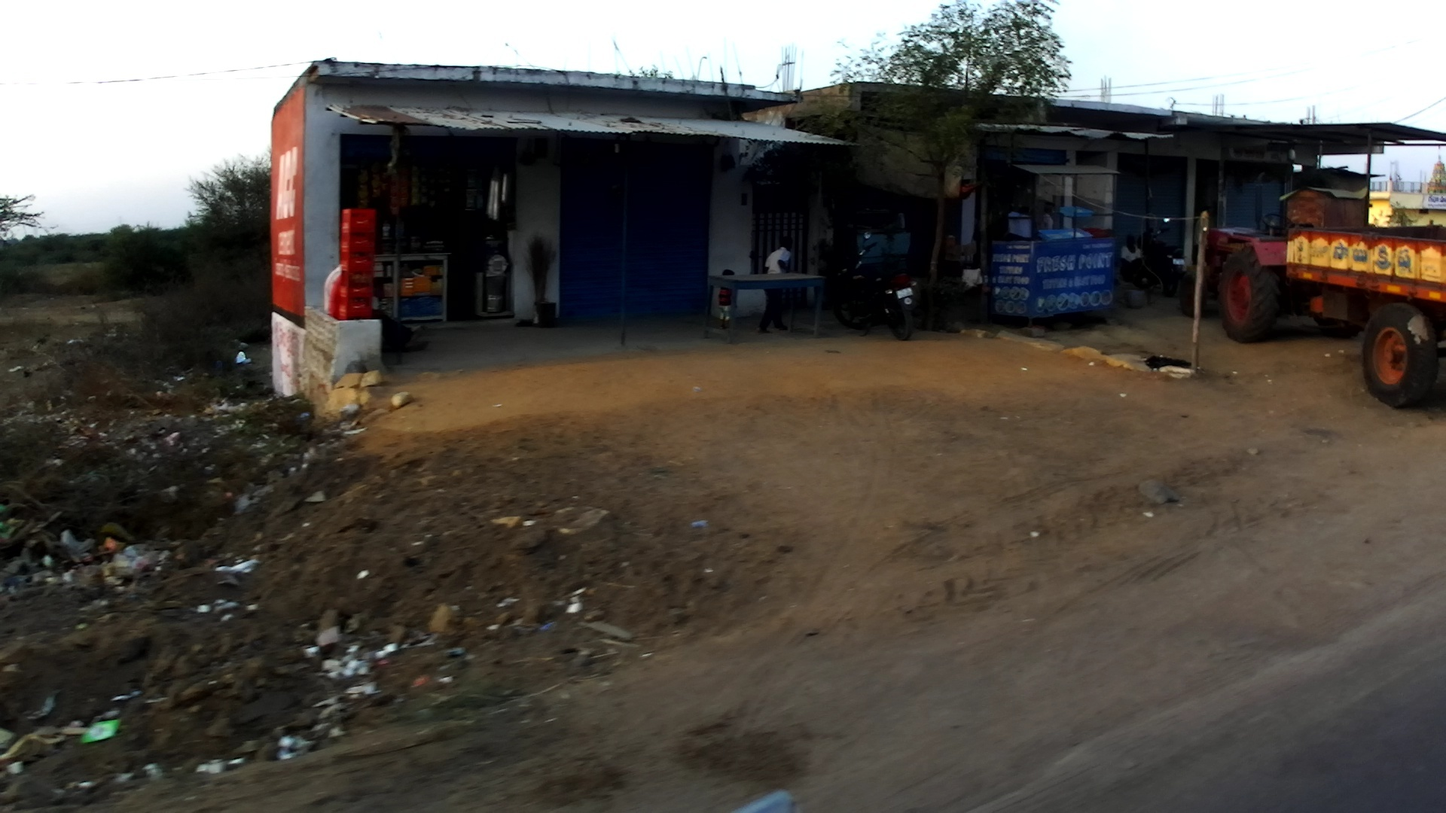motorcycle: (831, 228, 920, 341), (1144, 215, 1186, 302)
person: (323, 264, 429, 353), (757, 235, 795, 333), (1118, 236, 1144, 290), (718, 268, 738, 330)
vehicle fallback: (1179, 169, 1446, 409)
